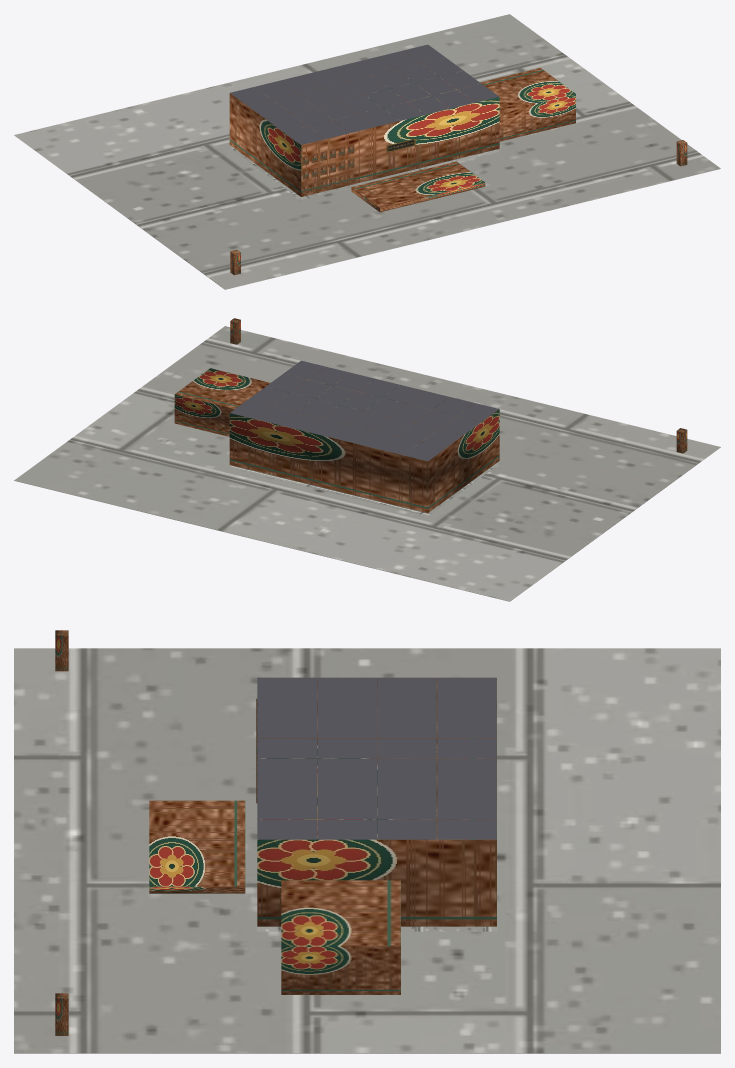
3 views of the same model, one above another, from view 1: azimuth 30°, elevation 25°; view 2: azimuth 150°, elevation 25°; view 3: azimuth 270°, elevation 25° (orthographic). The views are drawn at different scales.
Visible parts, largest first — view 1: 11710_01_05540_016_01_L2__base, 11710_01_05540_016_02_L2__body, 11710_01_05540_016_03_L2__roof, 11710_01_05540_016_05_L2__openings, 11710_01_05540_016_06_L2__green; view 2: 11710_01_05540_016_01_L2__base, 11710_01_05540_016_02_L2__body, 11710_01_05540_016_03_L2__roof, 11710_01_05540_016_06_L2__green; view 3: 11710_01_05540_016_01_L2__base, 11710_01_05540_016_02_L2__body, 11710_01_05540_016_03_L2__roof, 11710_01_05540_016_06_L2__green.
Boxes of the visible parts, x1,y1,x2,y2 form: 11710_01_05540_016_01_L2__base: [14, 14, 720, 289]; 11710_01_05540_016_02_L2__body: [229, 51, 575, 212]; 11710_01_05540_016_03_L2__roof: [230, 44, 498, 144]; 11710_01_05540_016_05_L2__openings: [302, 144, 354, 193]; 11710_01_05540_016_06_L2__green: [230, 140, 687, 275]; 11710_01_05540_016_01_L2__base: [14, 326, 720, 601]; 11710_01_05540_016_02_L2__body: [174, 367, 499, 513]; 11710_01_05540_016_03_L2__roof: [230, 360, 498, 461]; 11710_01_05540_016_06_L2__green: [230, 318, 687, 453]; 11710_01_05540_016_01_L2__base: [14, 648, 720, 1053]; 11710_01_05540_016_02_L2__body: [149, 678, 496, 994]; 11710_01_05540_016_03_L2__roof: [257, 677, 496, 839]; 11710_01_05540_016_06_L2__green: [55, 630, 68, 1035].
Size of the model in its own units: 160 by 17.02 by 118.
Materials: 5 (5 with a texture image).
